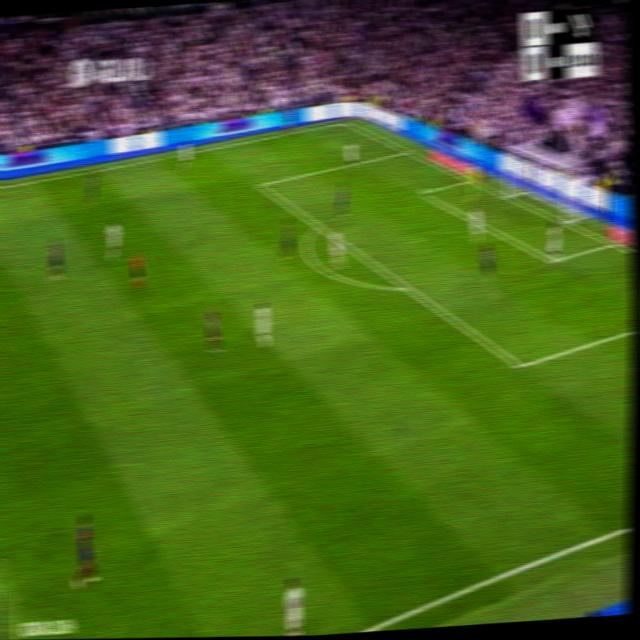bigarea_bottom_inner: (513, 352, 528, 378)
bigarea_top_inner: (256, 178, 266, 191)
bigarea_top_outter: (401, 144, 414, 156)
bottom_arc_area_intersection: (399, 278, 415, 296)
corner: (340, 117, 351, 126)
smallarea_bottom_outter: (606, 236, 619, 249)
smallarea_top_inner: (419, 187, 428, 197)
top_arc_area_intersection: (313, 218, 325, 231)
